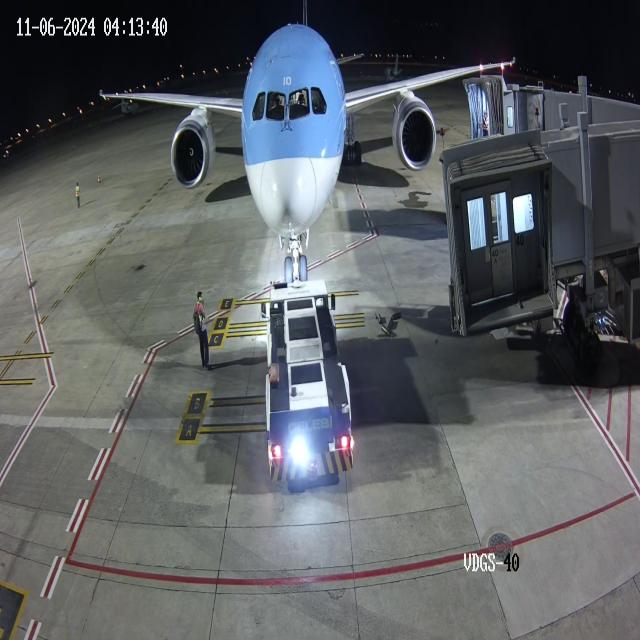bridge: (490, 73, 544, 146)
plane: (84, 5, 443, 278)
window: (248, 77, 332, 136)
